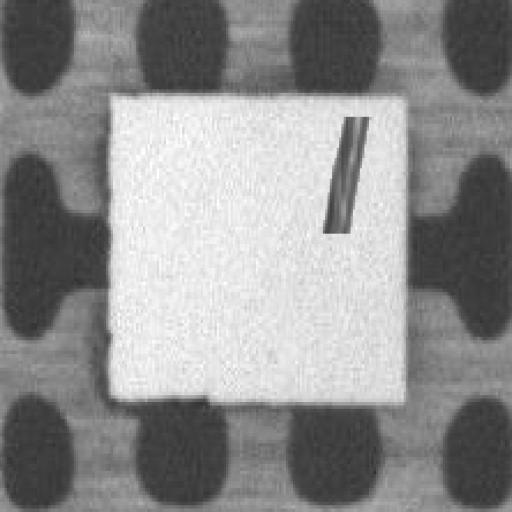DIE_INK: (318, 113, 369, 227)
